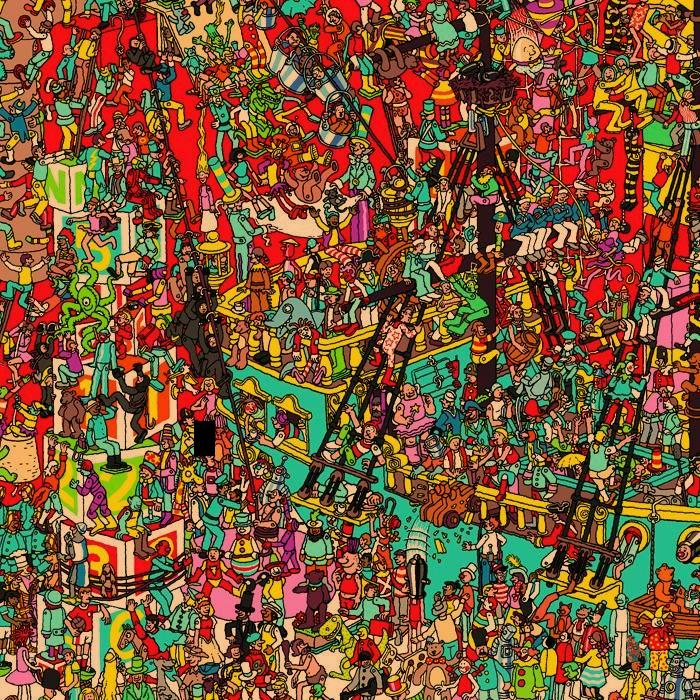waldos: (627, 636, 648, 671)
